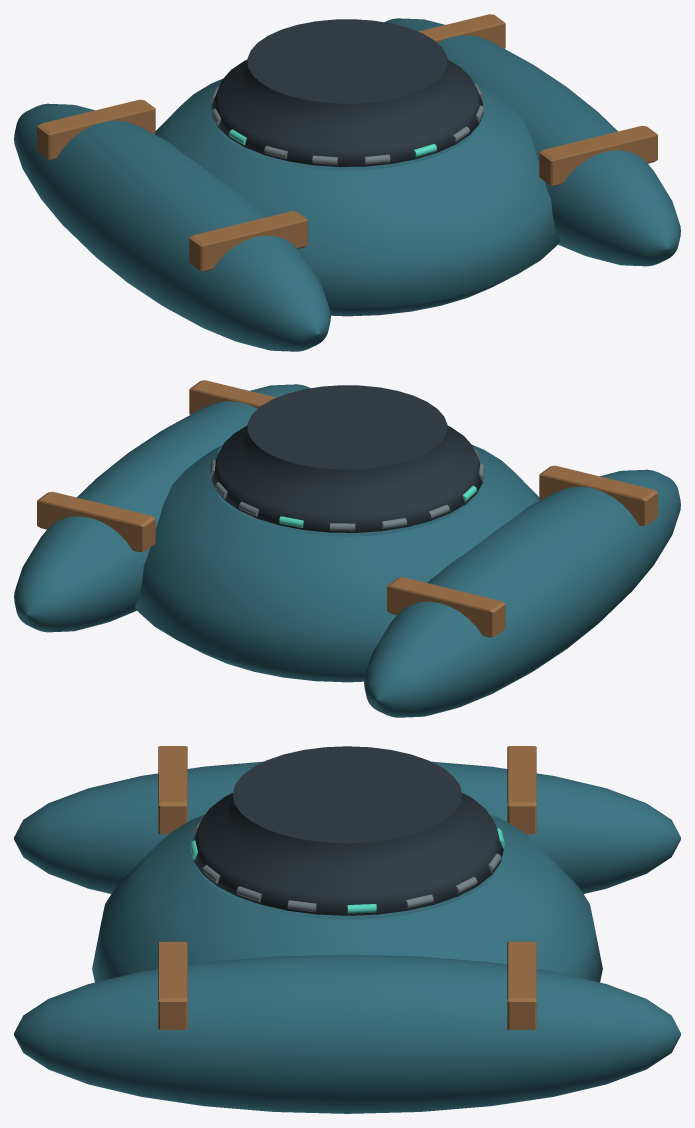
The model's file is mount_thalassa.glb.
The picture shows the model from 3 angles, top to bottom: view 1: azimuth 30°, elevation 25°; view 2: azimuth 150°, elevation 25°; view 3: azimuth 270°, elevation 25°; orthographic projection. The views are drawn at different scales.
Visible parts, largest first — view 1: mount_thalassa; view 2: mount_thalassa; view 3: mount_thalassa.
Boxes of the visible parts, left/top/right/bottom form: mount_thalassa: left=14, top=14, right=680, bottom=351; mount_thalassa: left=14, top=380, right=680, bottom=717; mount_thalassa: left=14, top=746, right=680, bottom=1113.
Bounding box in the file's own units: 6.86 × 2.56 × 7.26.
